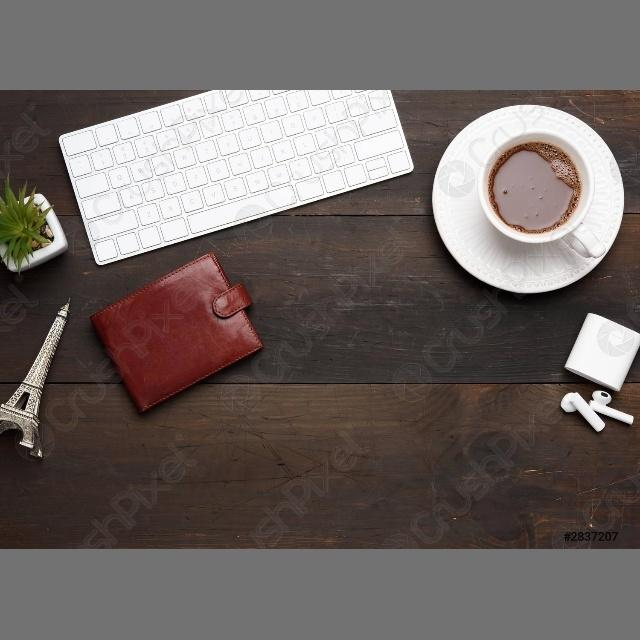Wallet: (83, 252, 289, 416)
